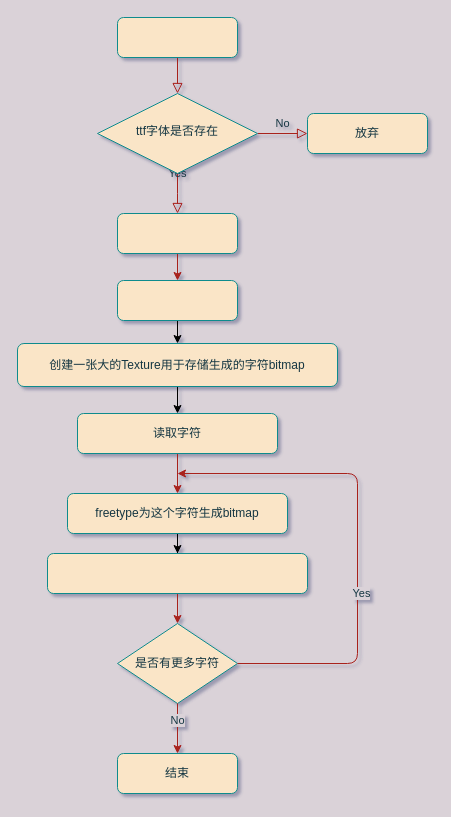
This 451x817 diagram has some shape labels left out. Each missing label, with the centre of its shape:
"freetype解析ttf" goes at (177,300).
"在大Texture上找空白地方，存储字符bitmap" goes at (177,573).
"开始" goes at (177,37).
"读取ttf文件" goes at (177,233).
